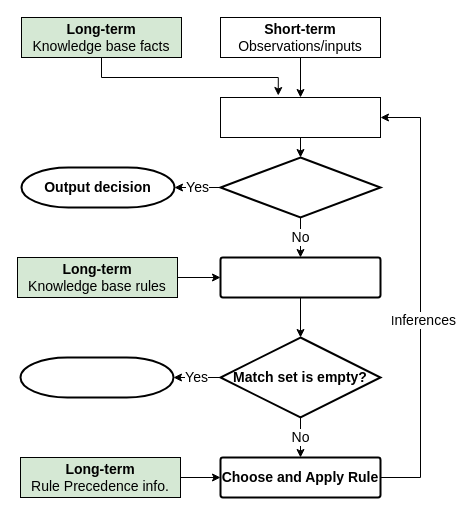
The diagram is 473 pixels wide and 516 high, and some of its shapes have lost their labels. The centre of each missing label's shape, as x and y in pixels:
Decision reached?: the point at 300,187
Find Match-set: the point at 300,277
Output 'undecideable': the point at 96,377
Short term current knowledge: the point at 300,117
